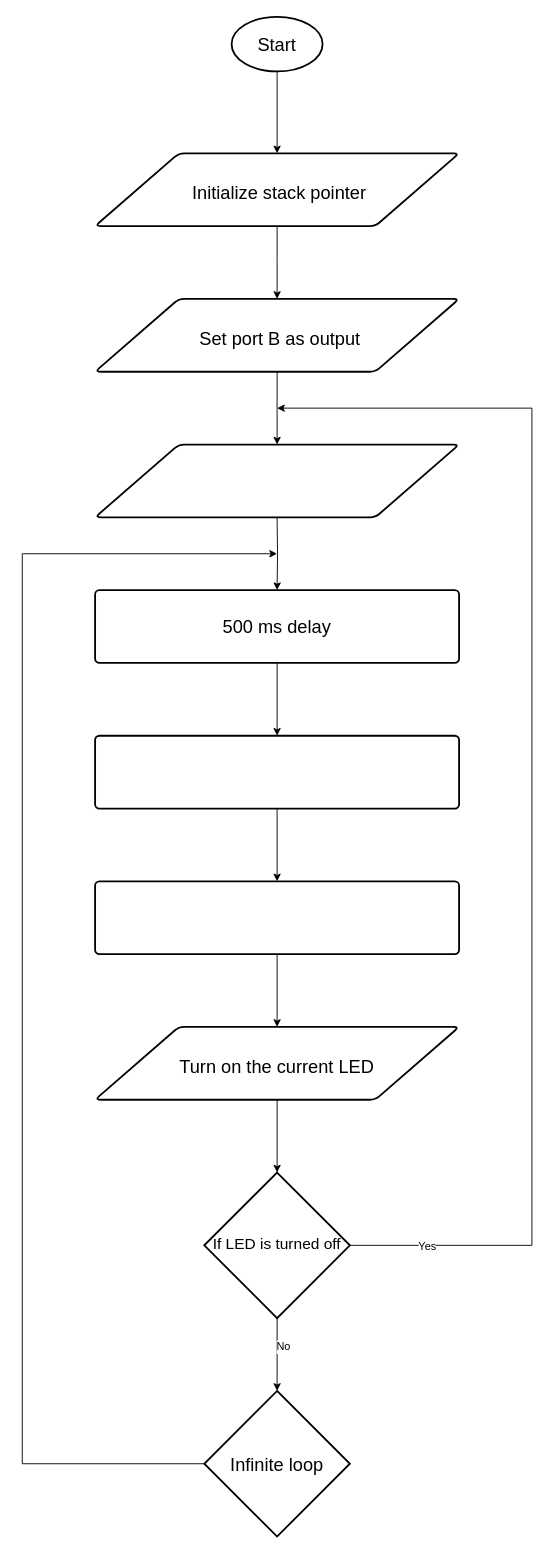
This 555x1552 diagram has some shape labels left out. The centre of each missing label's shape, as x and y in pixels:
Add 1 to the current bit: the point at 277,917
Light LED 0: the point at 277,480
Shift last bit to the left: the point at 277,771
